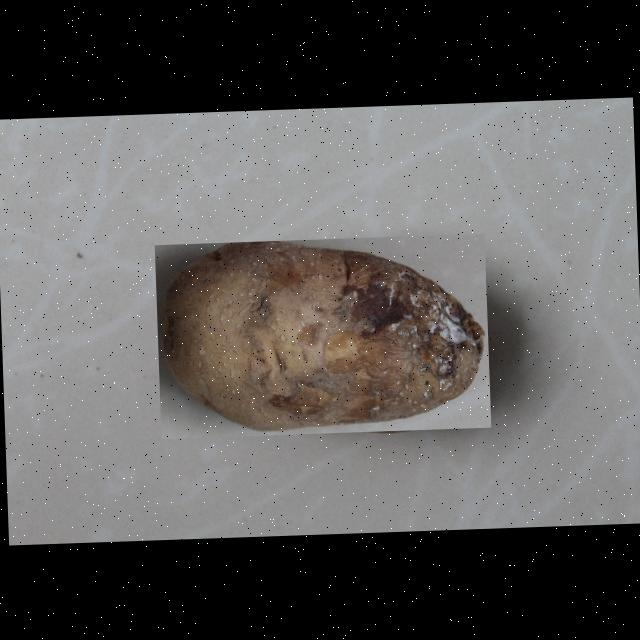Diseased-fungal potato: (153, 232, 490, 438)
